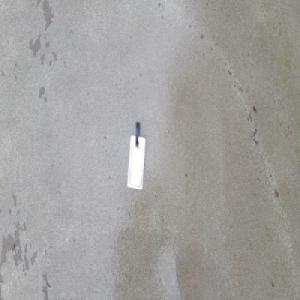LuggageTag: (125, 119, 146, 191)
